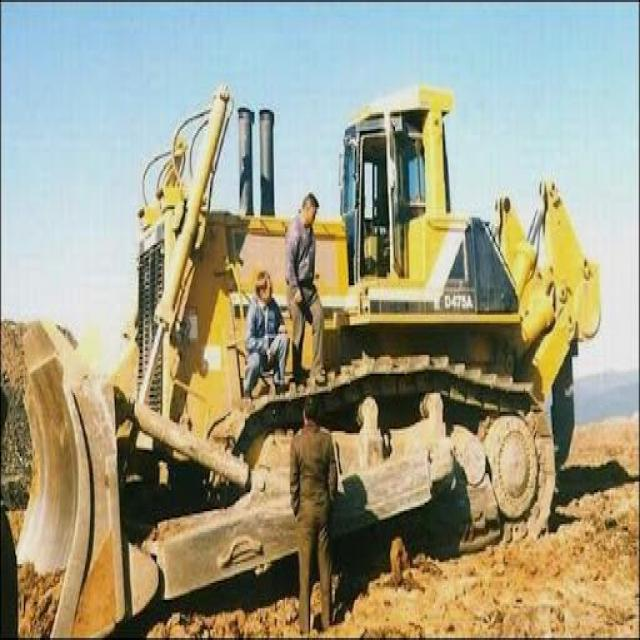Bulldozer: (17, 42, 605, 638)
